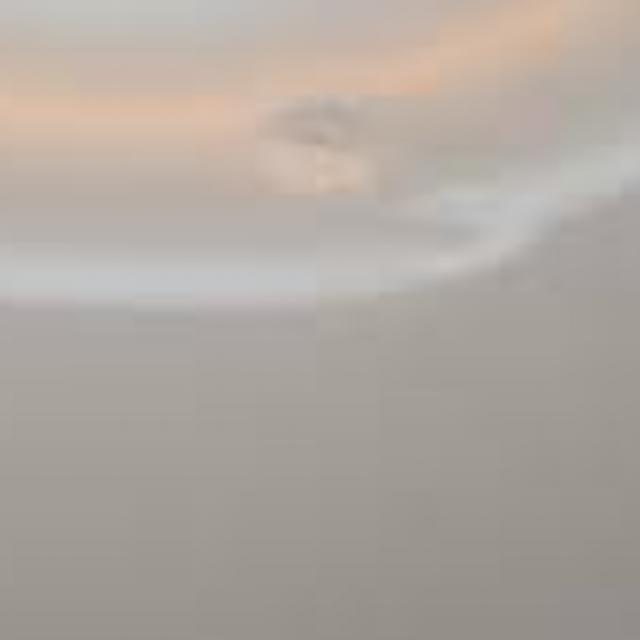dents: (246, 92, 402, 196), (361, 203, 522, 276)
